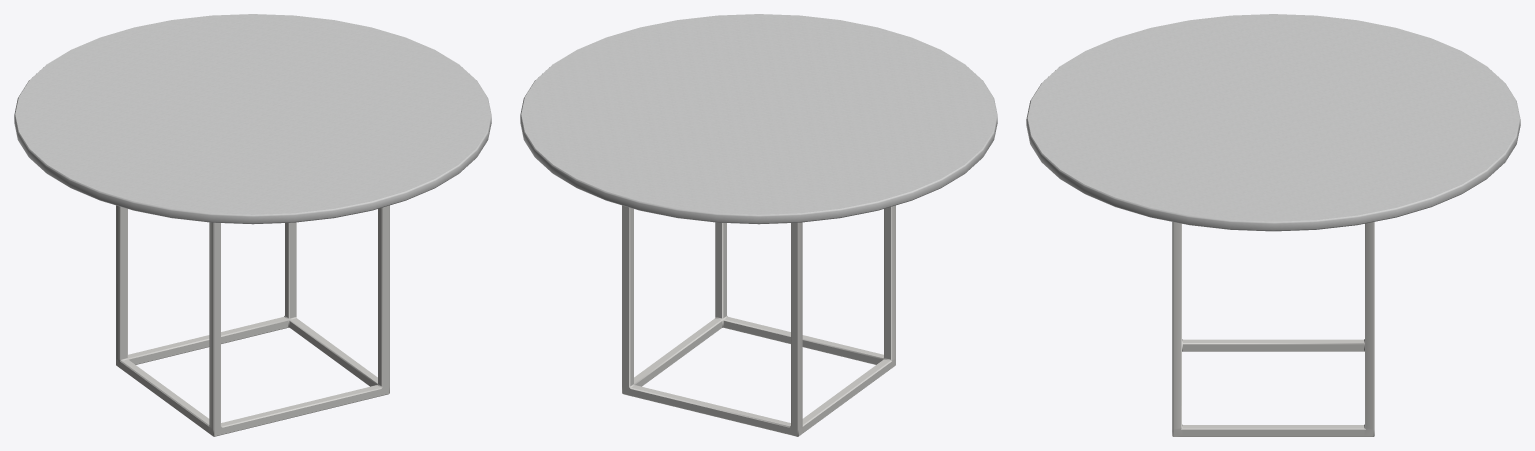
Rendered from Table04.FBX.
The picture shows the model from 3 angles, left to right: view 1: azimuth 30°, elevation 25°; view 2: azimuth 150°, elevation 25°; view 3: azimuth 270°, elevation 25°; orthographic projection. The views are drawn at different scales.
Visible parts, largest first — view 1: Table04; view 2: Table04; view 3: Table04.
Boxes of the visible parts, bbox=[...] form: Table04: bbox=[14, 14, 491, 436]; Table04: bbox=[520, 14, 997, 436]; Table04: bbox=[1026, 14, 1520, 436].
Size of the model in its own units: 133 by 81.72 by 133.
